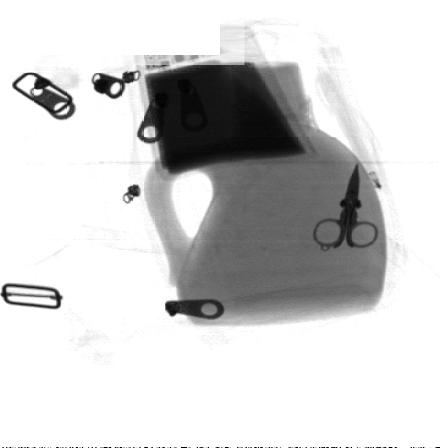Powerbank: (99, 25, 323, 184)
Scissors: (309, 159, 382, 251)
